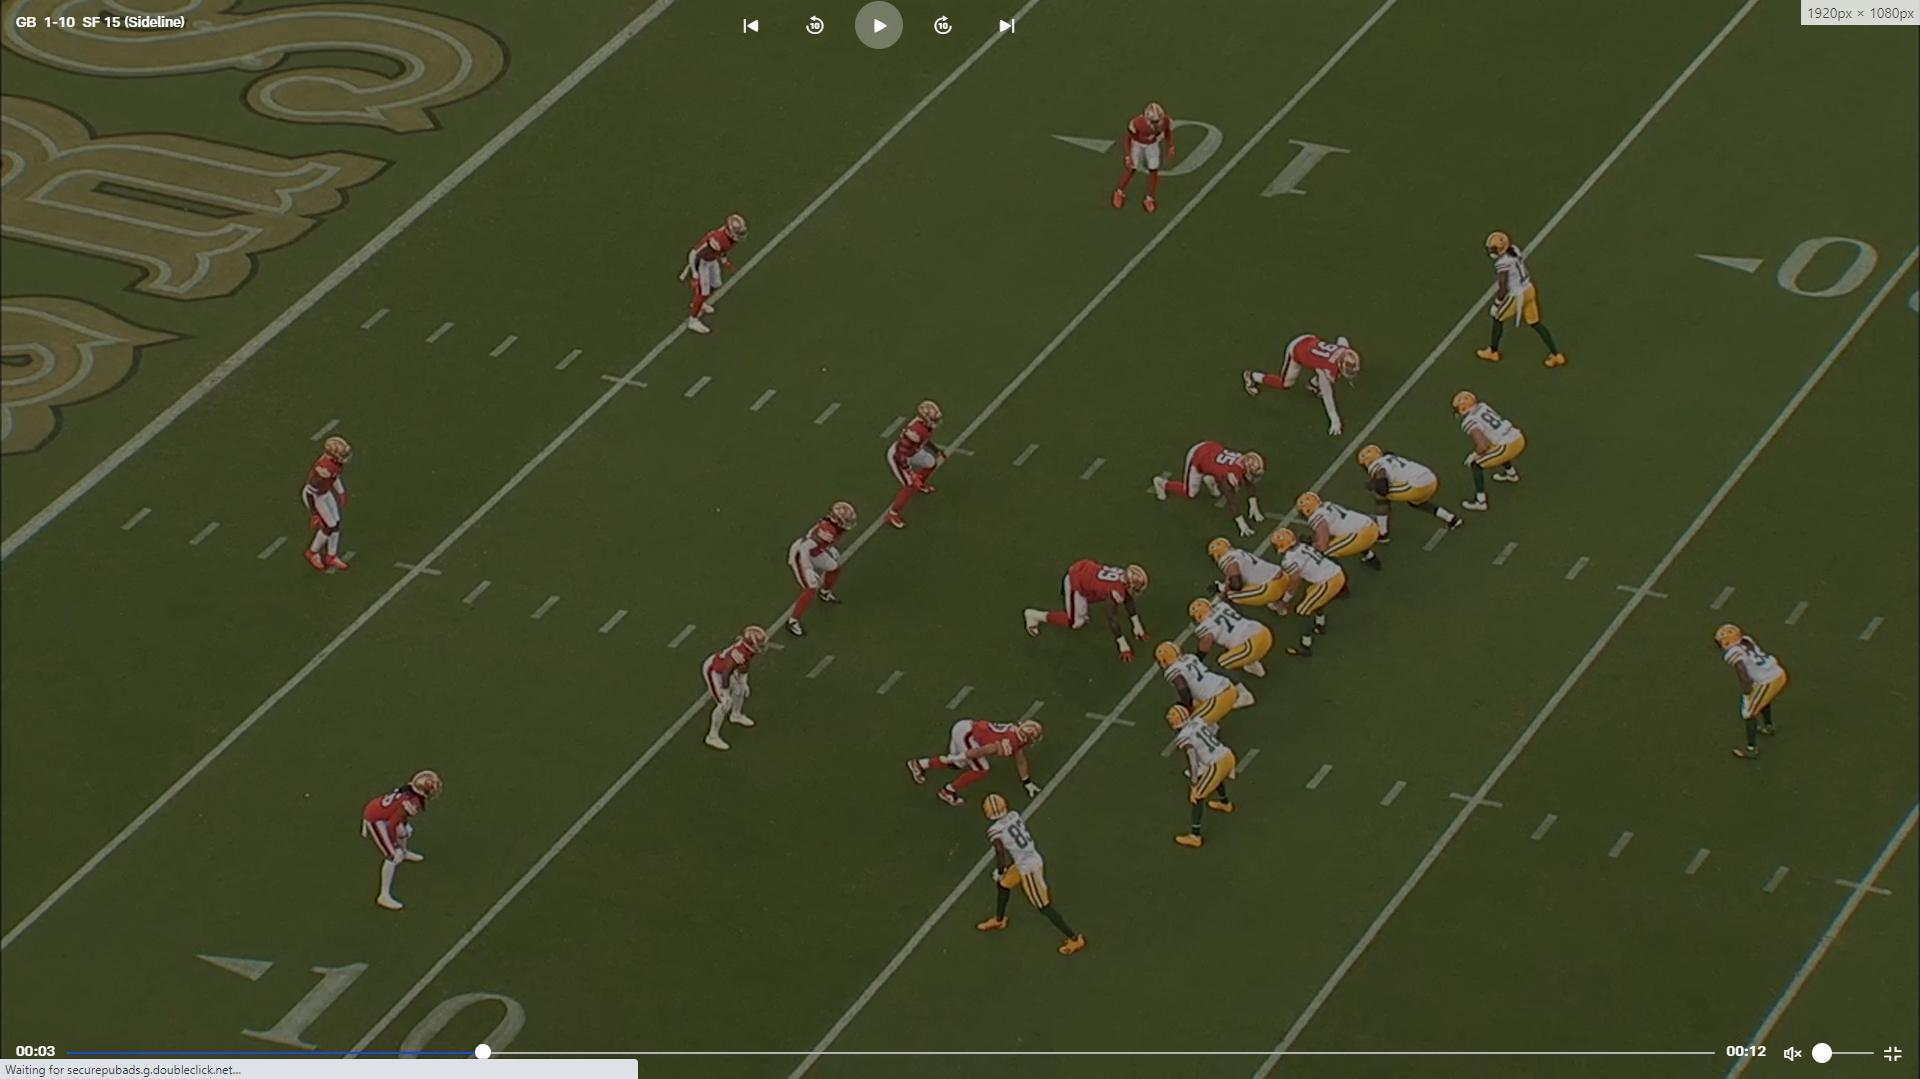defense: (1240, 331, 1362, 443), (364, 768, 448, 925), (916, 714, 1050, 813), (1019, 558, 1151, 656), (1147, 438, 1269, 537), (785, 499, 858, 642), (698, 623, 770, 760), (886, 397, 951, 536), (1102, 102, 1175, 223), (687, 211, 752, 343), (295, 434, 353, 578)
oline: (1185, 594, 1271, 706), (1358, 442, 1457, 537), (1303, 492, 1391, 575), (1156, 641, 1240, 723), (1211, 537, 1290, 619)
qb: (1267, 525, 1342, 656)
skill: (977, 798, 1095, 964), (1478, 230, 1568, 376), (1714, 619, 1792, 768), (1162, 704, 1238, 853), (1451, 392, 1527, 516)
